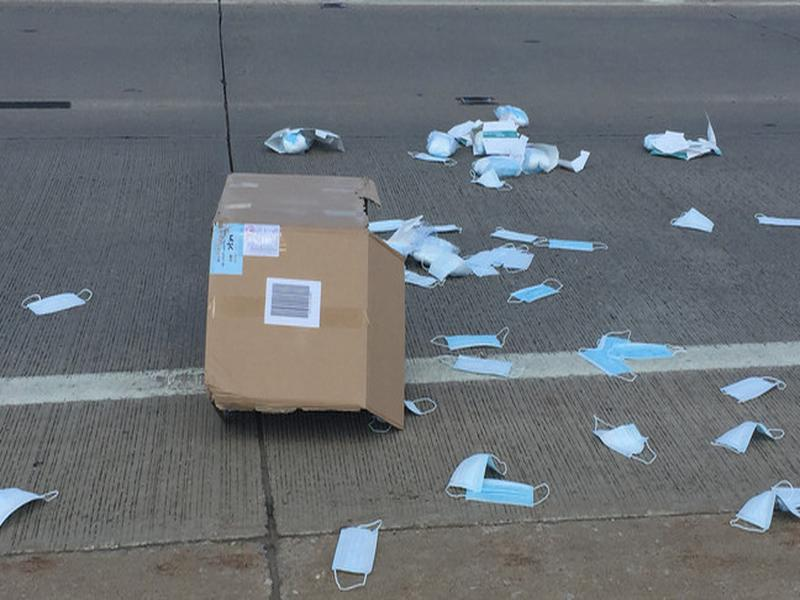cardboard: (200, 169, 408, 433)
mask: (573, 329, 691, 381), (589, 408, 664, 465), (327, 520, 386, 591), (727, 481, 798, 535), (444, 449, 507, 499), (708, 419, 788, 458), (461, 480, 554, 511), (719, 368, 790, 408), (437, 351, 530, 379), (19, 286, 93, 318), (432, 325, 514, 353), (501, 276, 570, 307), (533, 232, 614, 257), (665, 204, 719, 237)
